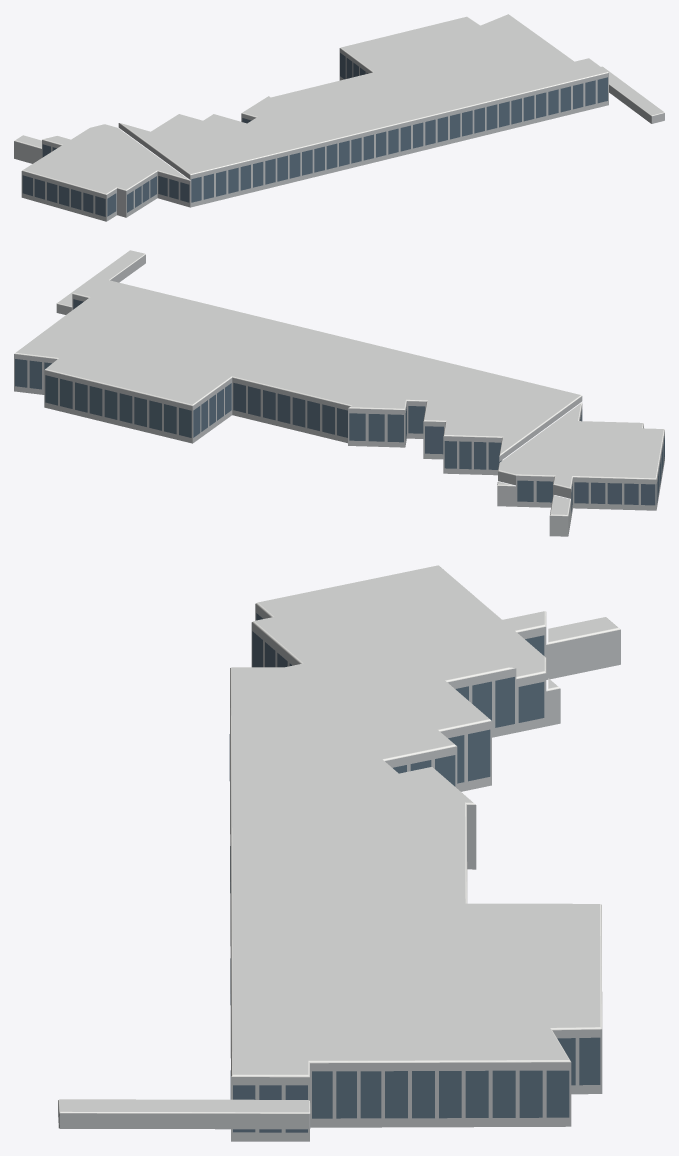
Rendered from nyc-jfk-terminal-6.glb.
3 views of the same model, one above another, from view 1: azimuth 30°, elevation 25°; view 2: azimuth 150°, elevation 25°; view 3: azimuth 270°, elevation 25° (orthographic). The views are drawn at different scales.
Parts seen in each view (by area): view 1: JFK Airport Terminal 6; view 2: JFK Airport Terminal 6; view 3: JFK Airport Terminal 6.
Boxes of the visible parts, x1,y1,x2,y2 form: JFK Airport Terminal 6: (14, 14, 664, 221); JFK Airport Terminal 6: (14, 250, 664, 536); JFK Airport Terminal 6: (58, 565, 620, 1141).
Bounding box in the file's own units: 313 × 18 × 139.
